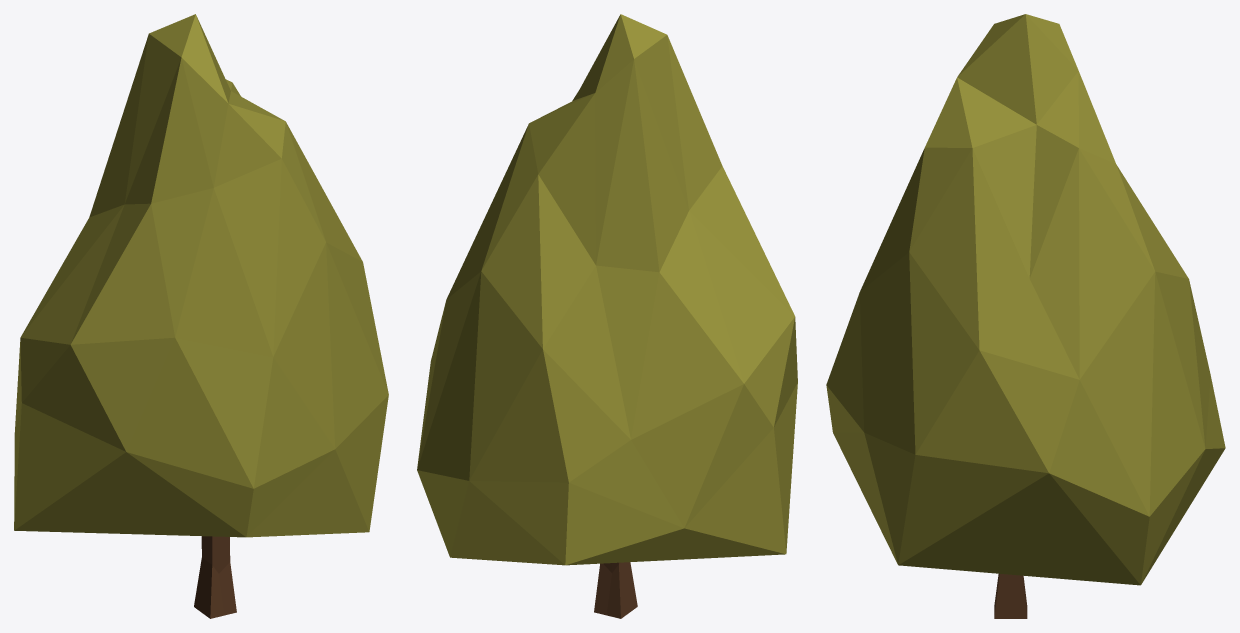
File: Tree_11_Yellow.fbx
The picture shows the model from 3 angles, left to right: view 1: azimuth 30°, elevation 25°; view 2: azimuth 150°, elevation 25°; view 3: azimuth 270°, elevation 25°; orthographic projection.
Visible parts, largest first — view 1: Tree_11_Yellow; view 2: Tree_11_Yellow; view 3: Tree_11_Yellow.
Boxes of the visible parts, x1,y1,x2,y2 form: Tree_11_Yellow: (14, 14, 388, 618); Tree_11_Yellow: (417, 14, 797, 618); Tree_11_Yellow: (826, 14, 1225, 618).
Size of the model in its own units: 483 by 790 by 483.
